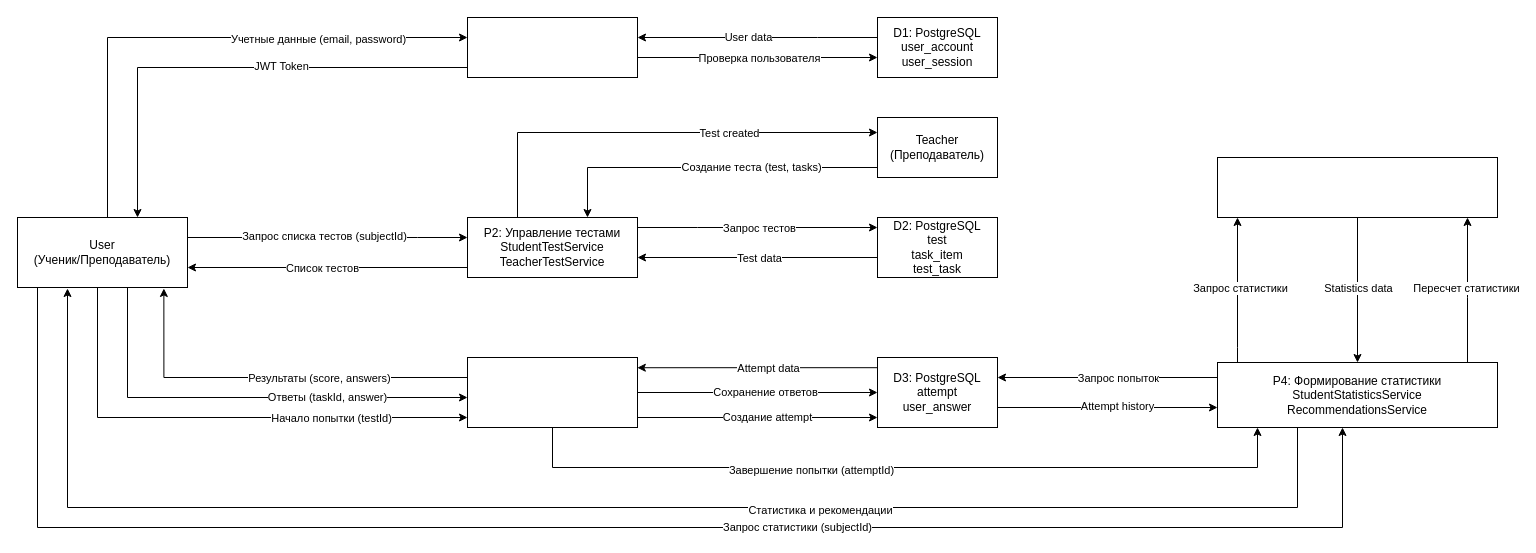
The diagram is 1536 pixels wide and 553 high, and some of its shapes have lost their labels. Here are the shapes that lost their labels. From the top down, the box of each, then its label:
(466, 16, 638, 78): P1: Обработка авторизации AuthController
(1216, 156, 1498, 218): D4: PostgreSQL user_stats recommendation
(466, 356, 638, 428): P3: Прохождение теста StudentAttemptService
